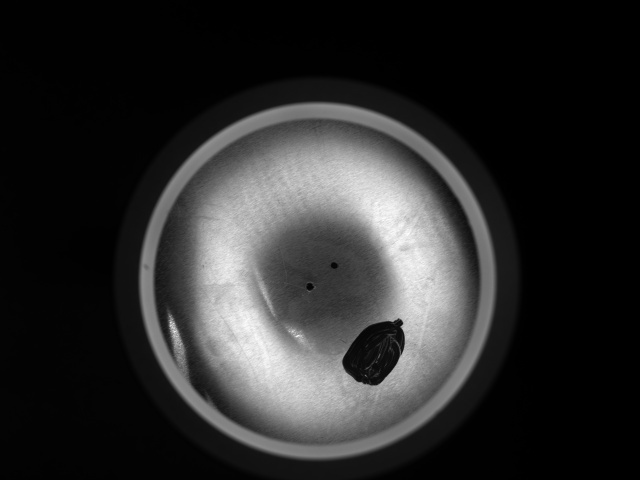zang_wu: (339, 317, 403, 391)
zhen_kong: (303, 280, 317, 292), (328, 259, 340, 271)
